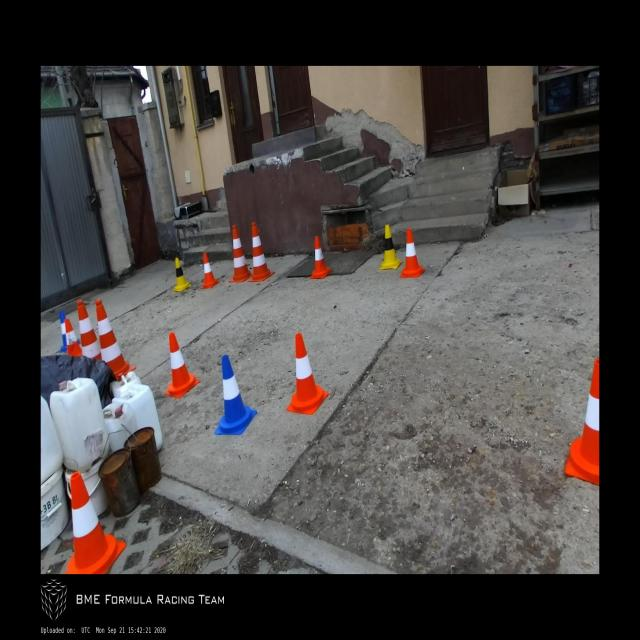blue_cone: (215, 355, 258, 435), (59, 311, 82, 352)
large_orange_cone: (96, 300, 136, 380), (248, 222, 275, 282), (77, 300, 101, 360), (229, 225, 254, 282)
orange_cone: (65, 472, 127, 574), (564, 358, 600, 486), (287, 333, 329, 415), (164, 332, 200, 398), (399, 228, 425, 278), (310, 236, 332, 278), (201, 252, 220, 288), (65, 318, 82, 356)
yellow_cone: (379, 224, 402, 270), (173, 258, 192, 292)
